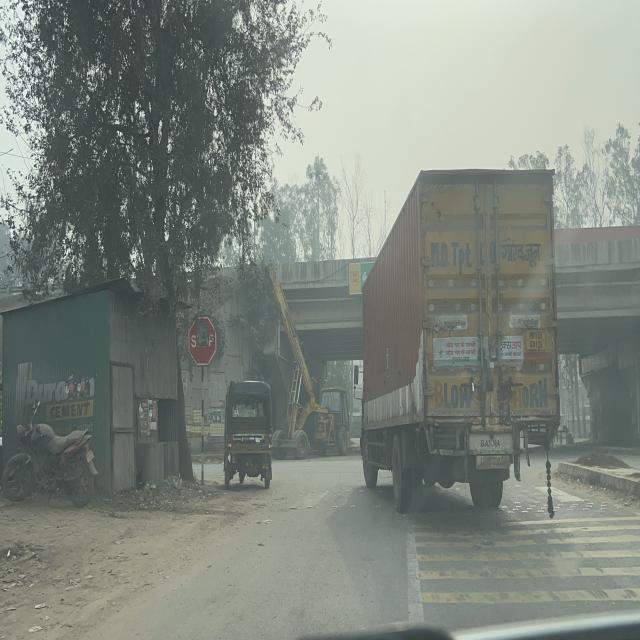STOP: (188, 315, 218, 368)
